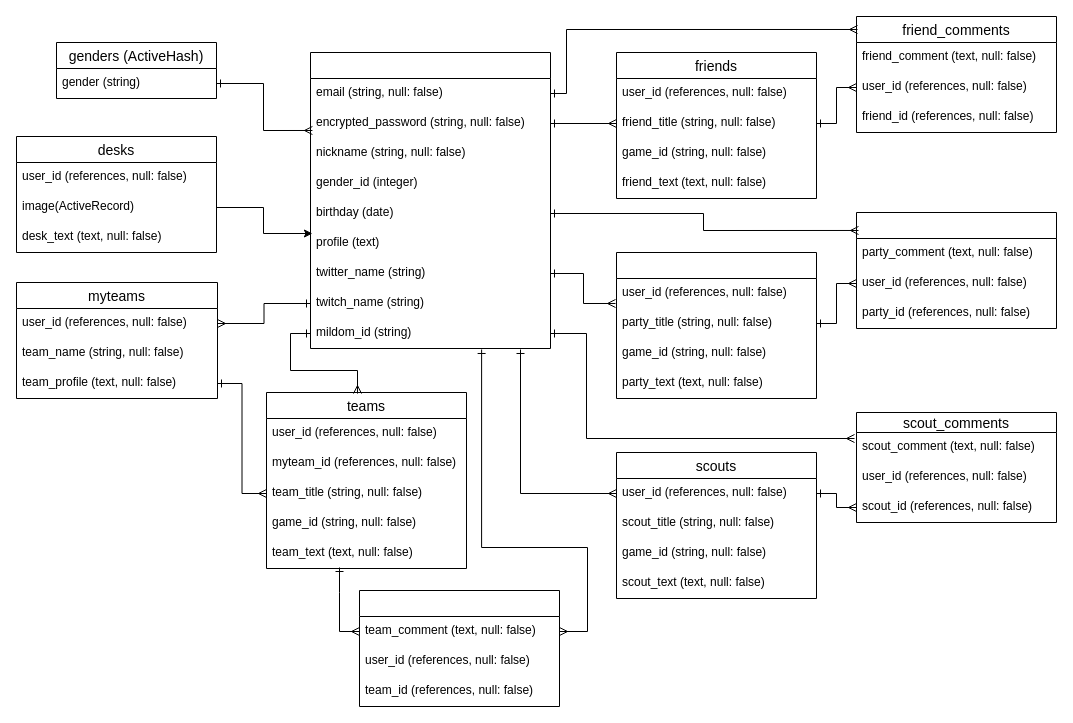
Image size: 1073x723. Some labels were removed from this diagram. The shapes that lost their labels are listed below. From the top down, each one's box as (x1, y1, x2, y2) in pixels, then its label:
(310, 52, 550, 348): users
(856, 212, 1056, 328): party_comments
(616, 252, 816, 398): parties
(358, 590, 560, 706): team_comments
